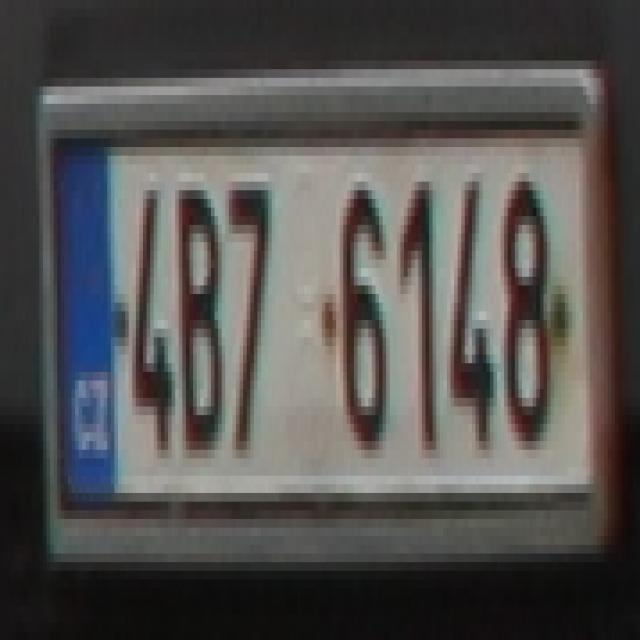1: (390, 164, 440, 450)
4: (443, 173, 497, 441), (125, 173, 175, 441)
6: (333, 173, 386, 432)
7: (222, 173, 268, 441)
8: (497, 164, 551, 450)
B: (172, 191, 225, 458)
